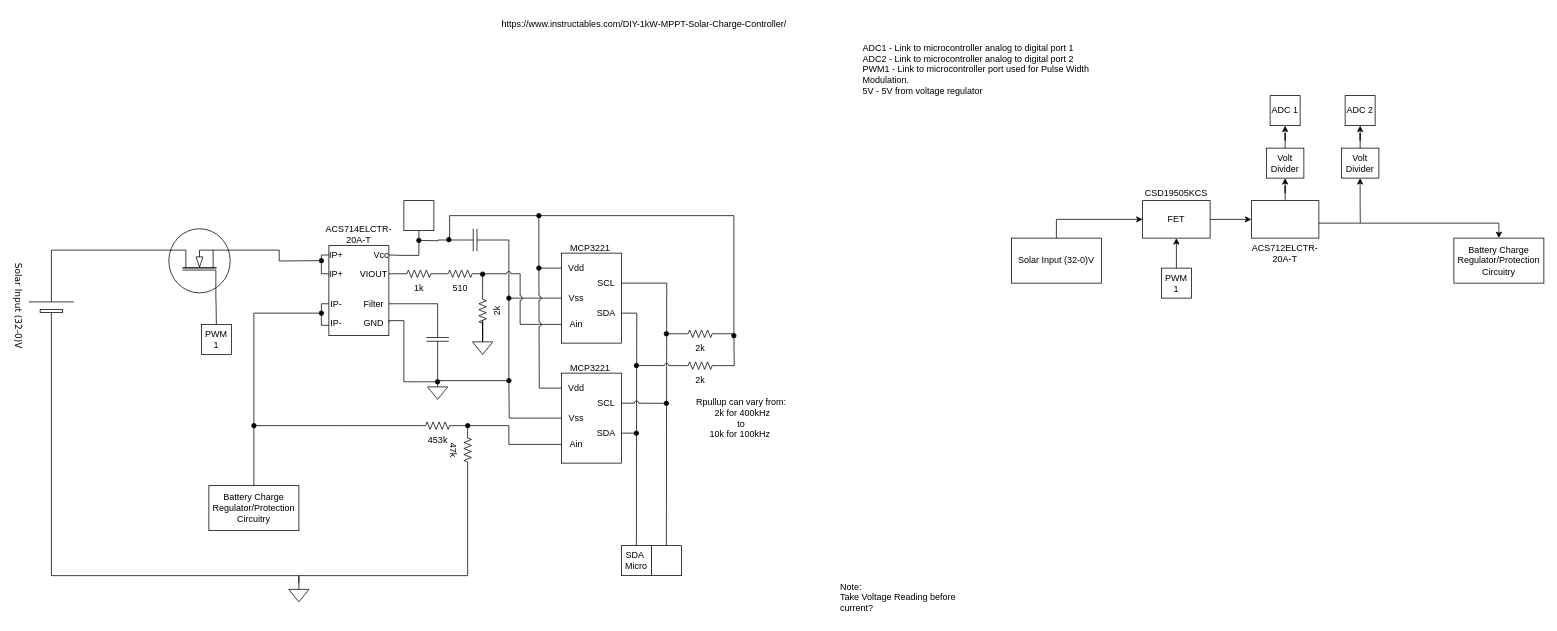
This 1557x631 diagram has some shape labels left out. The shapes that lost their labels are listed below. From the top down, each one's box as (x1, y1, x2, y2) in pixels, then its label:
(403, 200, 434, 231): 5V
(1251, 200, 1319, 238): Current Sensor
(456, 228, 494, 251): 0.1uF
(161, 228, 237, 300): Q1 CSD19505
(426, 320, 449, 358): 2.2nF
(651, 545, 681, 576): SCL Micro
